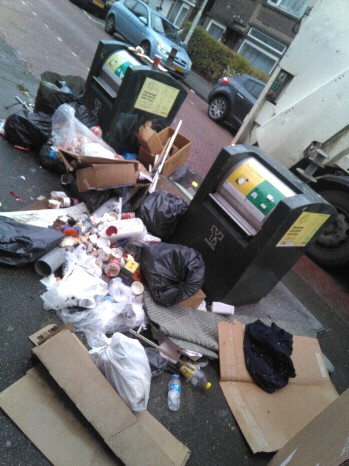Container: (163, 135, 333, 304)
Papier: (226, 316, 346, 443), (123, 134, 208, 172)
Plastic: (180, 358, 207, 391), (166, 378, 185, 412)
Rest: (62, 17, 199, 154), (17, 333, 139, 466), (65, 142, 159, 261), (9, 198, 99, 265), (140, 228, 208, 308), (24, 110, 107, 175), (101, 322, 157, 410), (67, 261, 133, 328), (146, 288, 198, 365), (45, 62, 96, 139), (143, 155, 195, 226), (10, 97, 58, 148)
